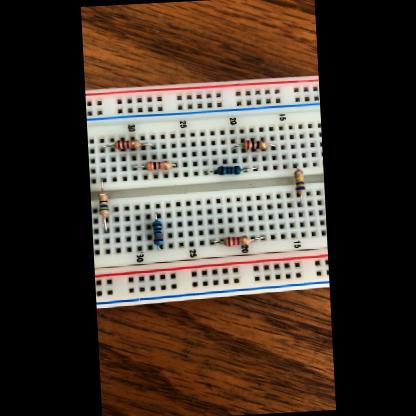breadboard: (84, 75, 330, 309)
resistor: (294, 168, 306, 194), (98, 190, 110, 216), (217, 164, 241, 176), (144, 160, 171, 170), (152, 220, 162, 245), (115, 139, 140, 149), (242, 140, 267, 150), (222, 236, 249, 245)
wire: (101, 144, 115, 151), (140, 141, 154, 148), (232, 144, 242, 152), (250, 236, 264, 241), (210, 239, 223, 244), (100, 178, 105, 191), (103, 216, 107, 232), (241, 167, 257, 171), (132, 164, 144, 169), (298, 194, 303, 206), (204, 170, 216, 174), (268, 143, 276, 148), (154, 212, 158, 219), (294, 164, 298, 170), (158, 245, 162, 250), (171, 162, 176, 166)
